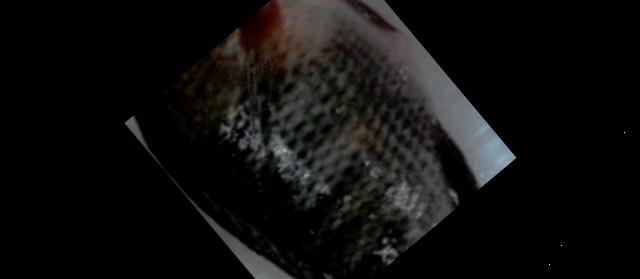Tilapia Lake Virus -TiLV-: (133, 0, 473, 279)
